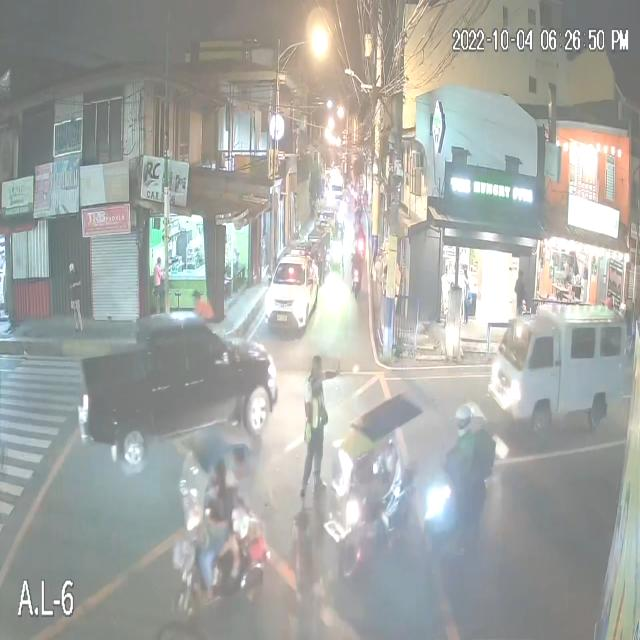Full-Faced: (452, 398, 476, 432)
